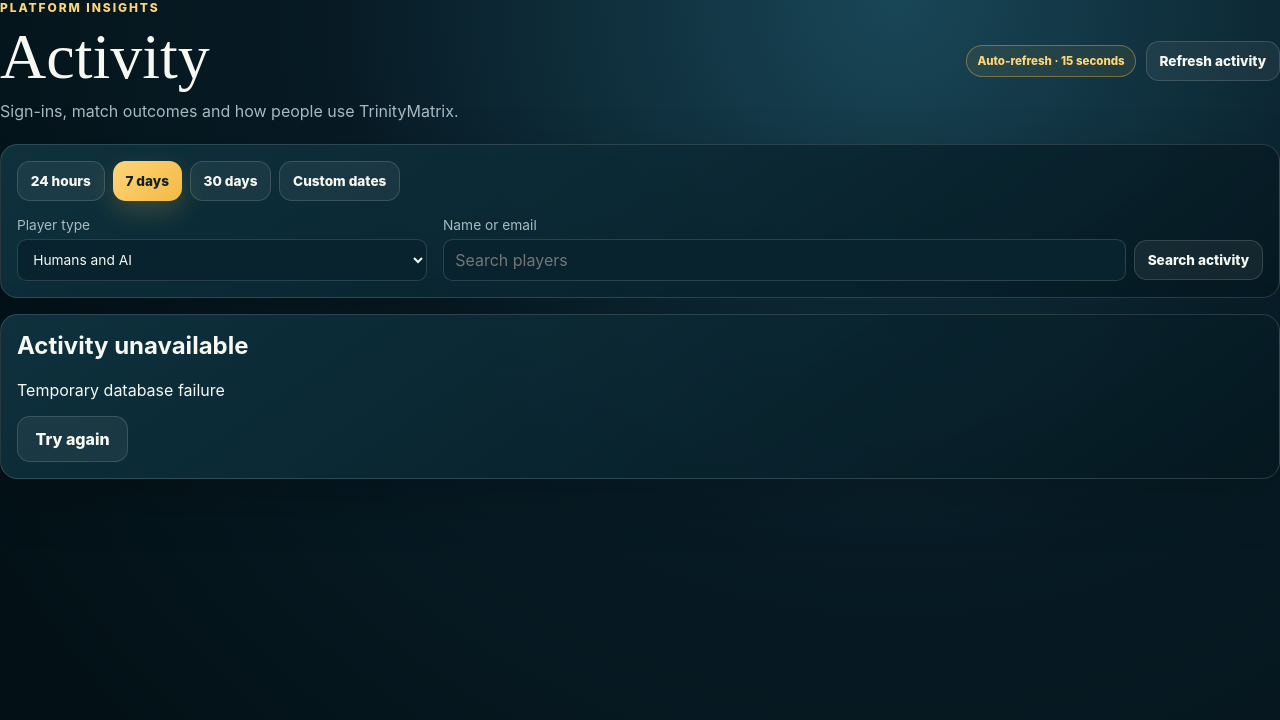
Scenario: administrator Activity panel › recovers an initial failure and clearly labels an empty result
Check: the message shows "Temporary database failure", box x1=17 y1=380 x2=225 y2=400
What coordinates should you click on to do the following:
click the button "Try again"
I would click on:
 (73, 439)
Its box is x1=17 y1=416 x2=128 y2=462.
(page scrolled)
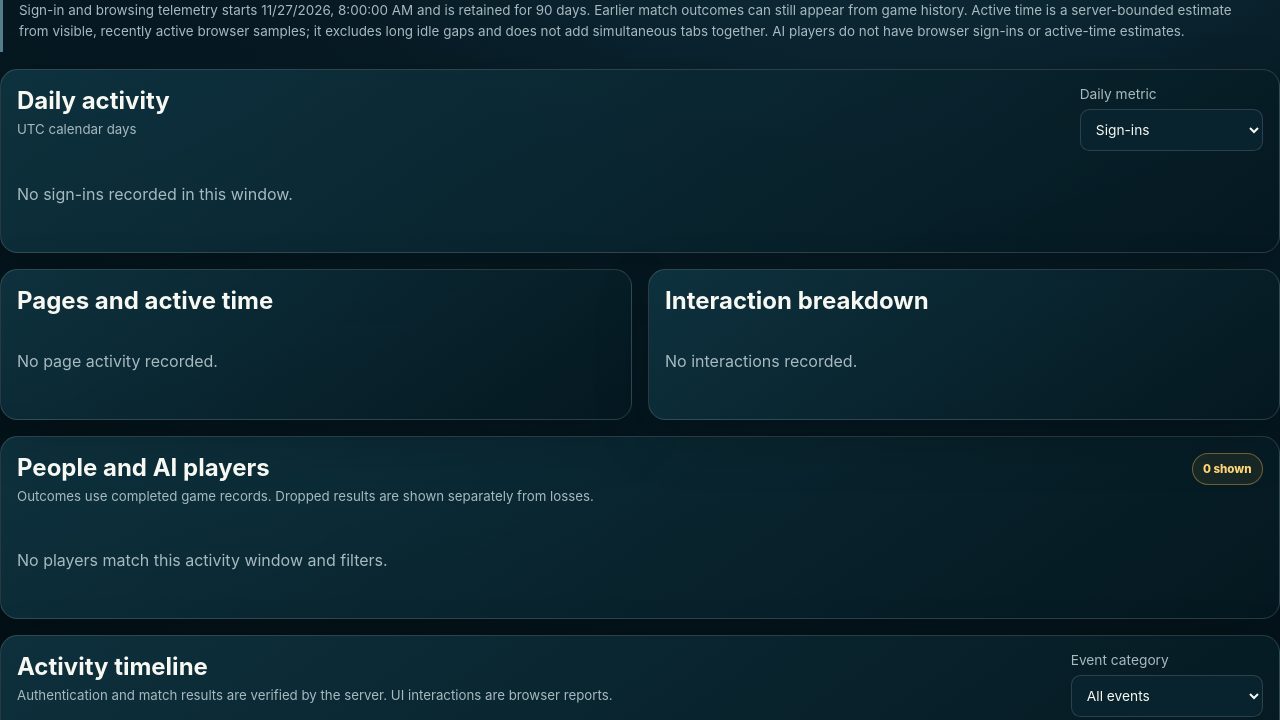
Check: the text "No players match this activity window and filters." is shown, box x1=17 y1=550 x2=388 y2=570
Check: the text "No page activity recorded." is shown, box x1=17 y1=351 x2=218 y2=371
